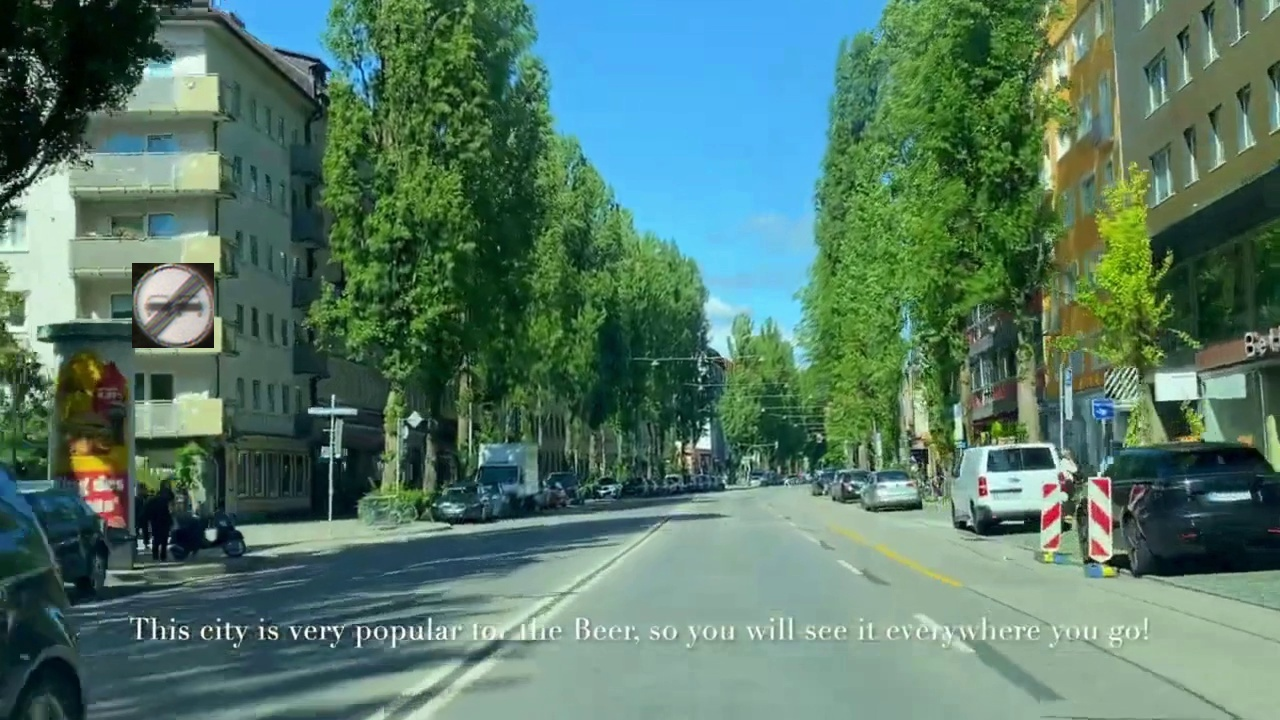End no pass: (132, 263, 214, 348)
